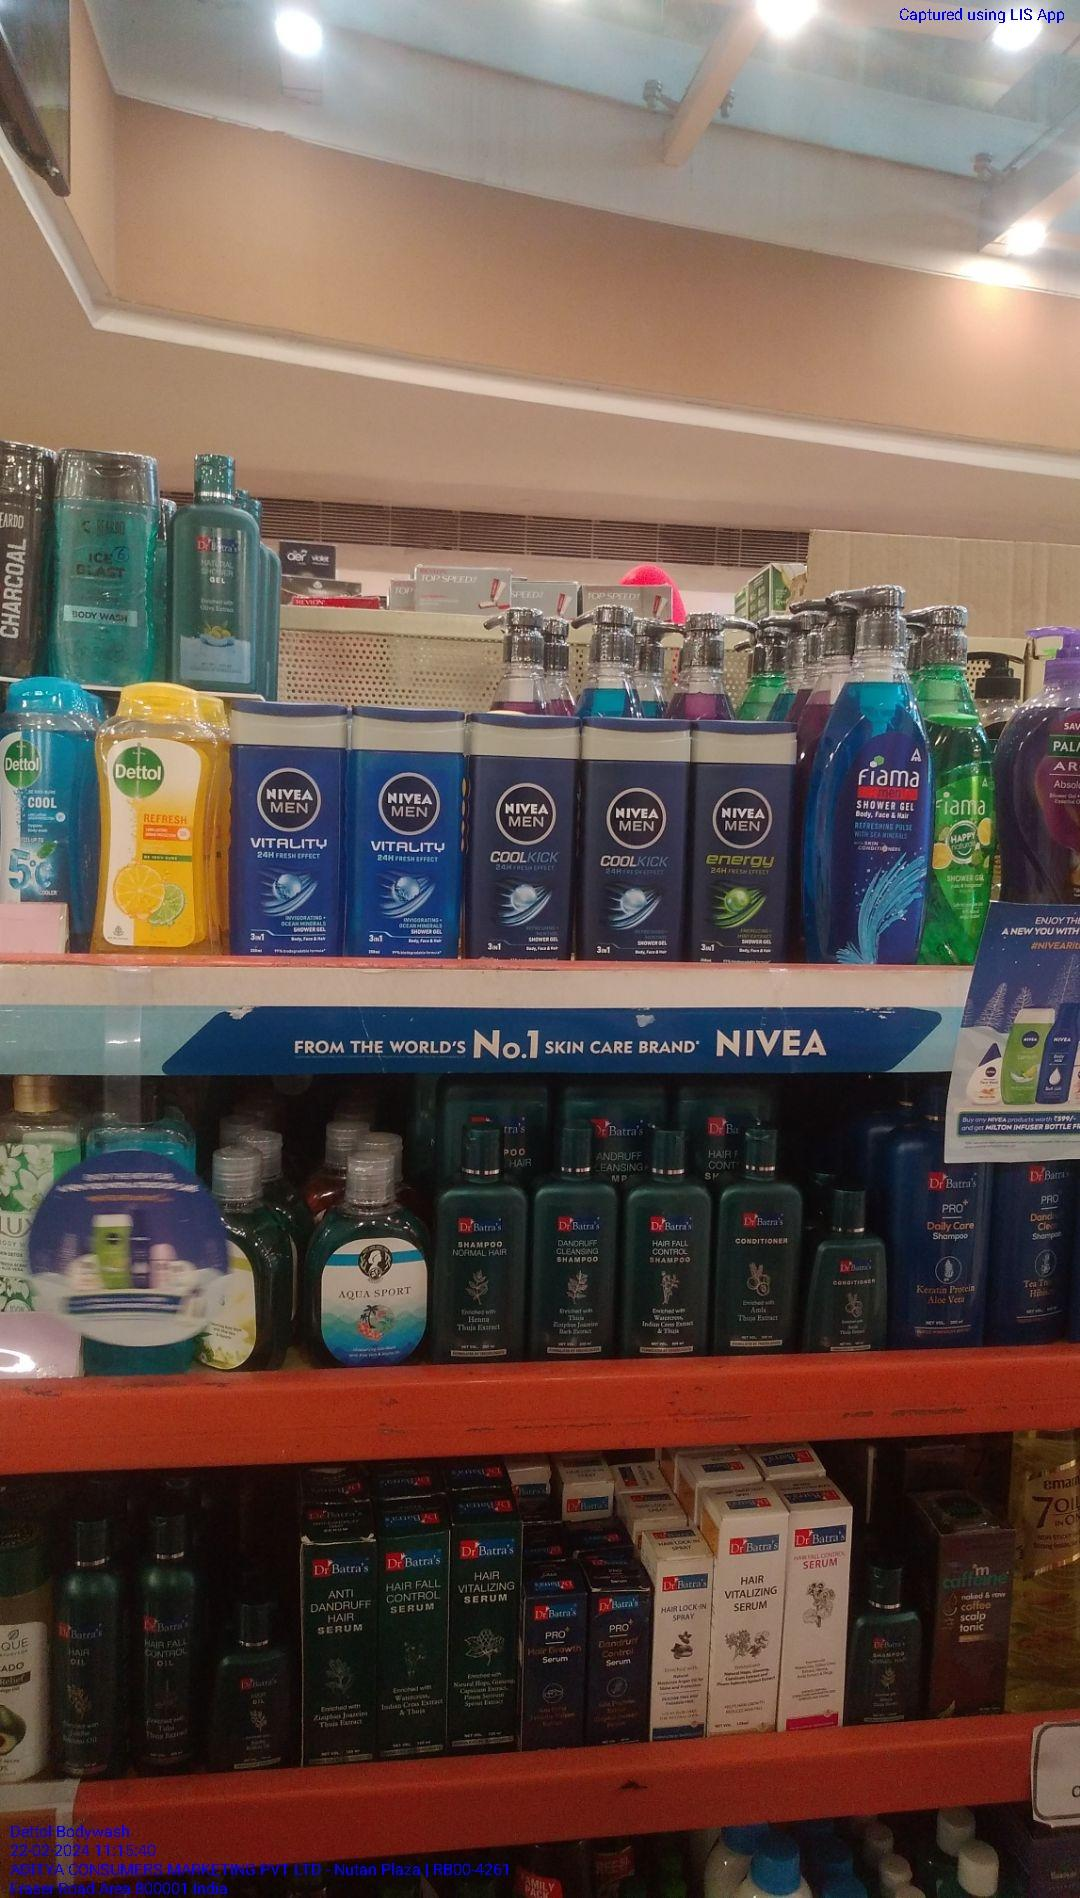Dettol_Bodywash_Cool: (0, 684, 95, 949)
Dettol_Bodywash_Refresh: (103, 680, 218, 954)
